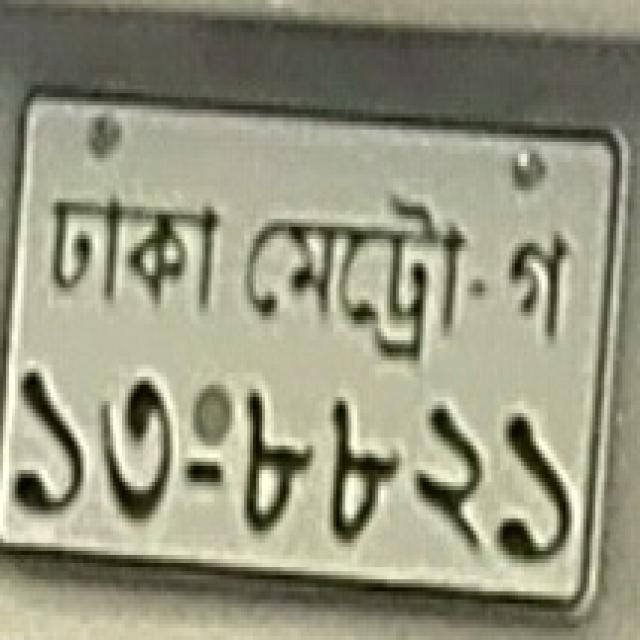numberplate: (2, 83, 622, 604)
